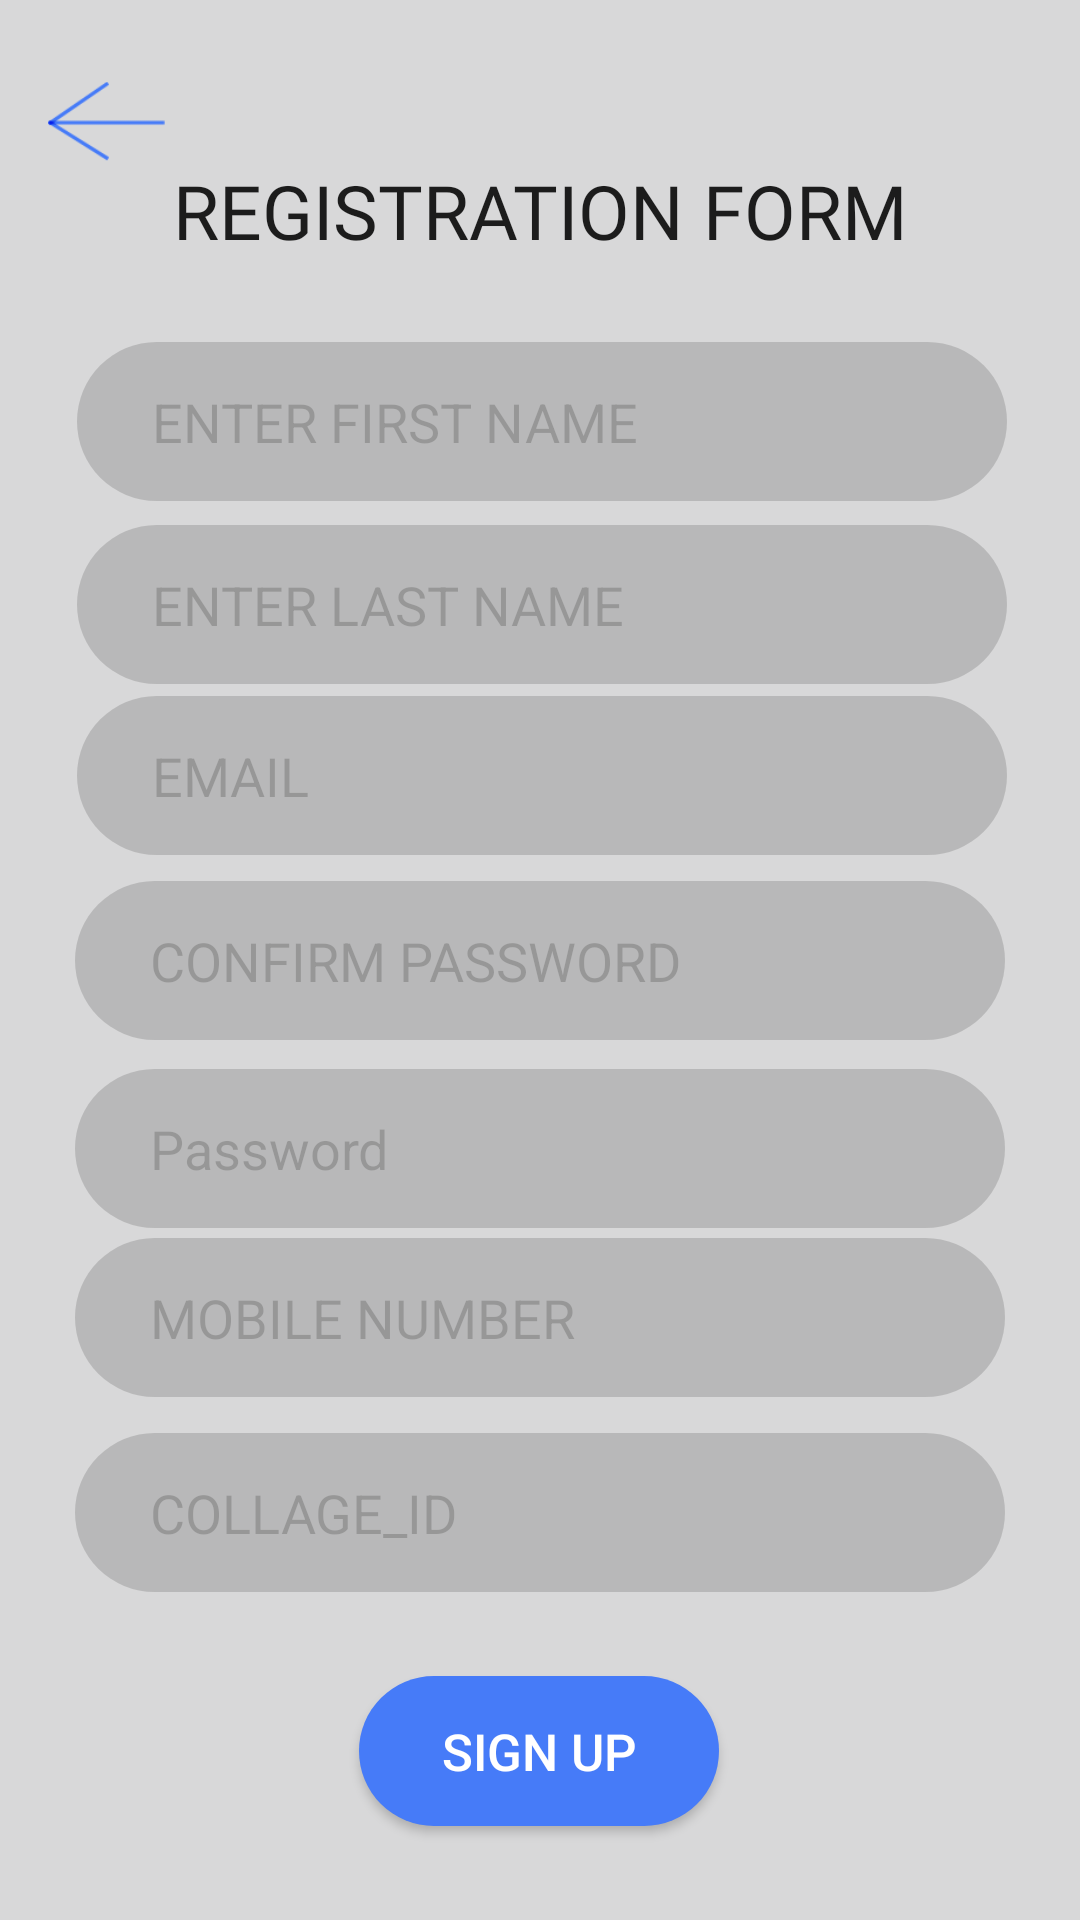

Where to tap for icons on this 1080 x 1920 app screen, as [x,y]:
backbutton: [106,121]
